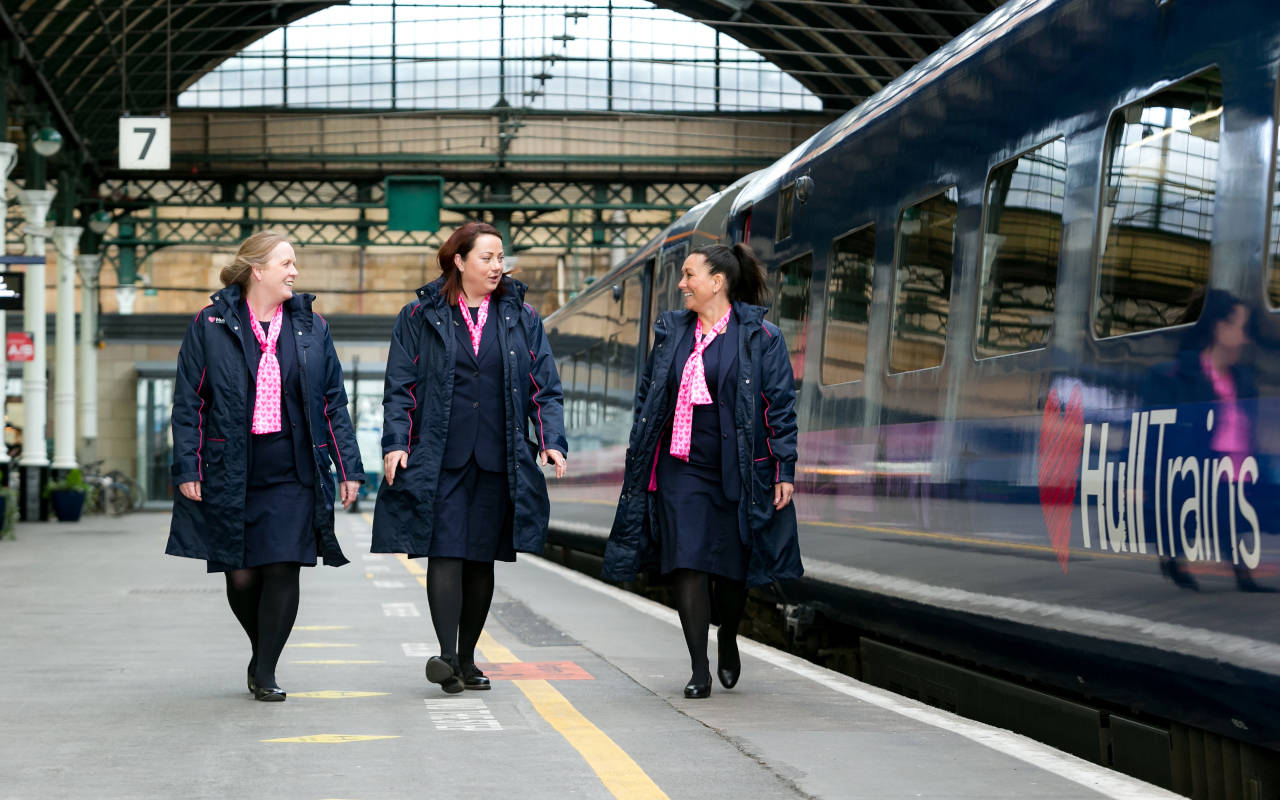without_mask: (465, 239, 505, 289), (676, 257, 710, 315), (267, 245, 301, 302)
